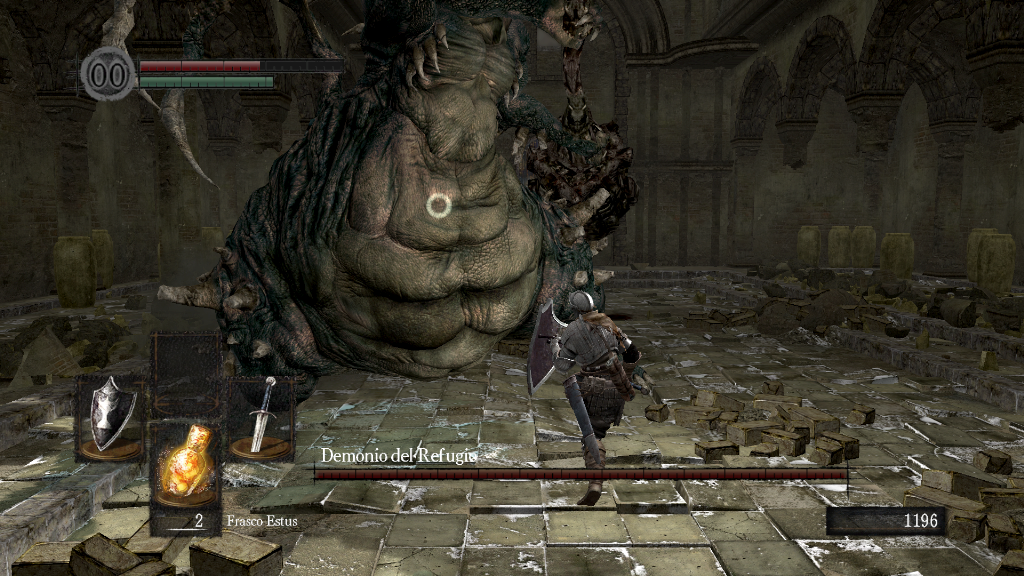asylumDemon: (71, 4, 647, 416)
bossHP: (314, 469, 847, 479)
health: (138, 58, 343, 71)
humanity: (80, 45, 136, 102)
player: (525, 290, 654, 506)
souls: (825, 506, 945, 536)
stamina: (138, 74, 274, 88)
